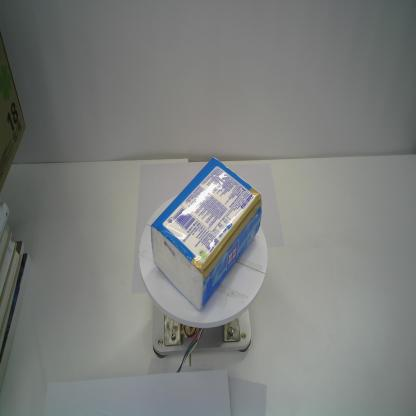Tissue: (150, 155, 262, 314)
